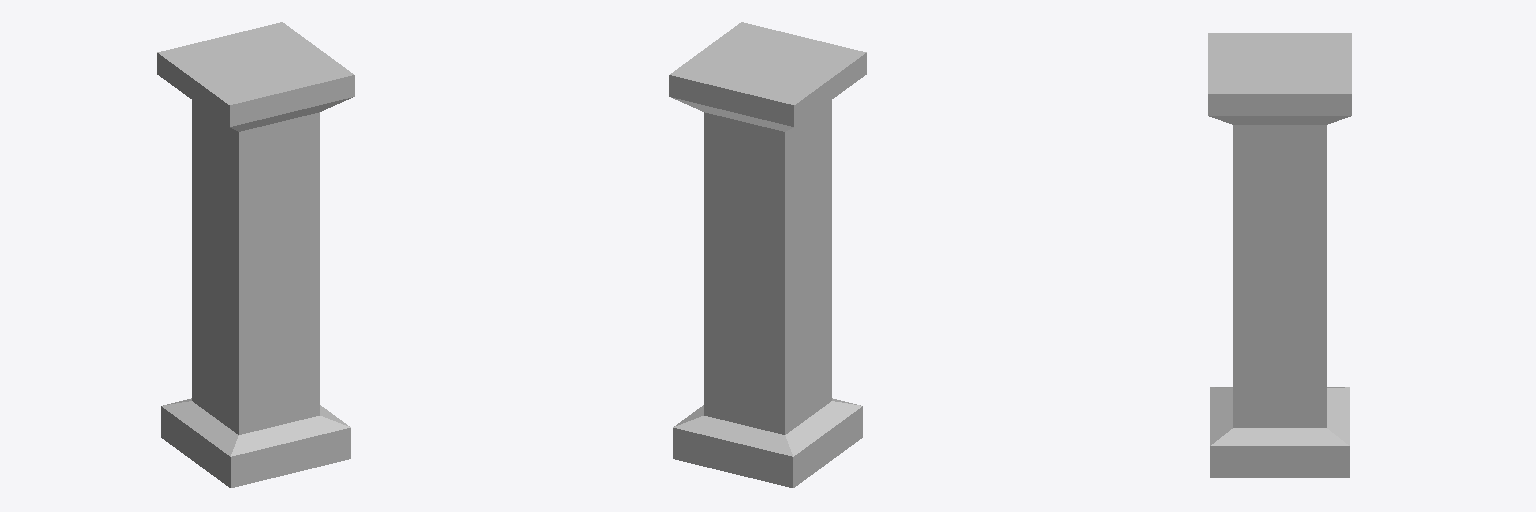
The model's file is pillar.obj.
3 renders of one model, left to right at view 1: azimuth 30°, elevation 25°; view 2: azimuth 150°, elevation 25°; view 3: azimuth 270°, elevation 25°, orthographic.
Visible parts, largest first — view 1: Box001; view 2: Box001; view 3: Box001.
Part boxes in pixels (x1,y1,x2,y2): Box001: (157,22,354,487); Box001: (669,22,866,487); Box001: (1208,33,1351,477).
Size of the model in its own units: 20.77 by 60.93 by 20.77.